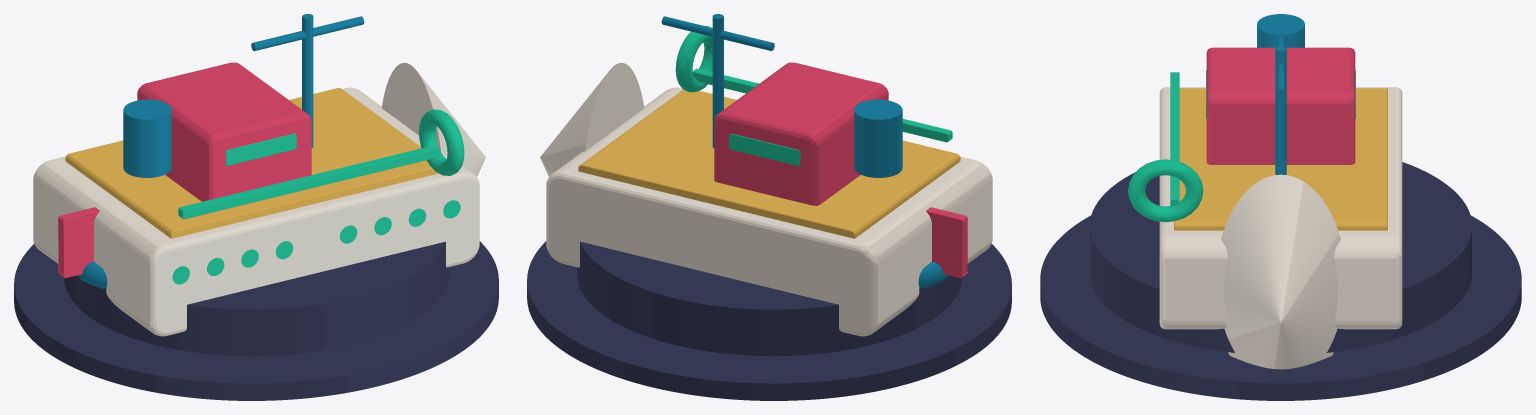
Rendered from 1179_唐图鉴_如皋唐船.glb.
3 views of the same model, side by side, from view 1: azimuth 30°, elevation 25°; view 2: azimuth 150°, elevation 25°; view 3: azimuth 270°, elevation 25° (orthographic).
Visible parts, largest first — view 1: card_1179; view 2: card_1179; view 3: card_1179.
Boxes of the visible parts, box(x1,y1,x2,y2) form: card_1179: box(14, 14, 498, 400); card_1179: box(527, 14, 1011, 400); card_1179: box(1040, 14, 1521, 400).
Bounding box in the file's own units: 1.57 × 1 × 1.47.
